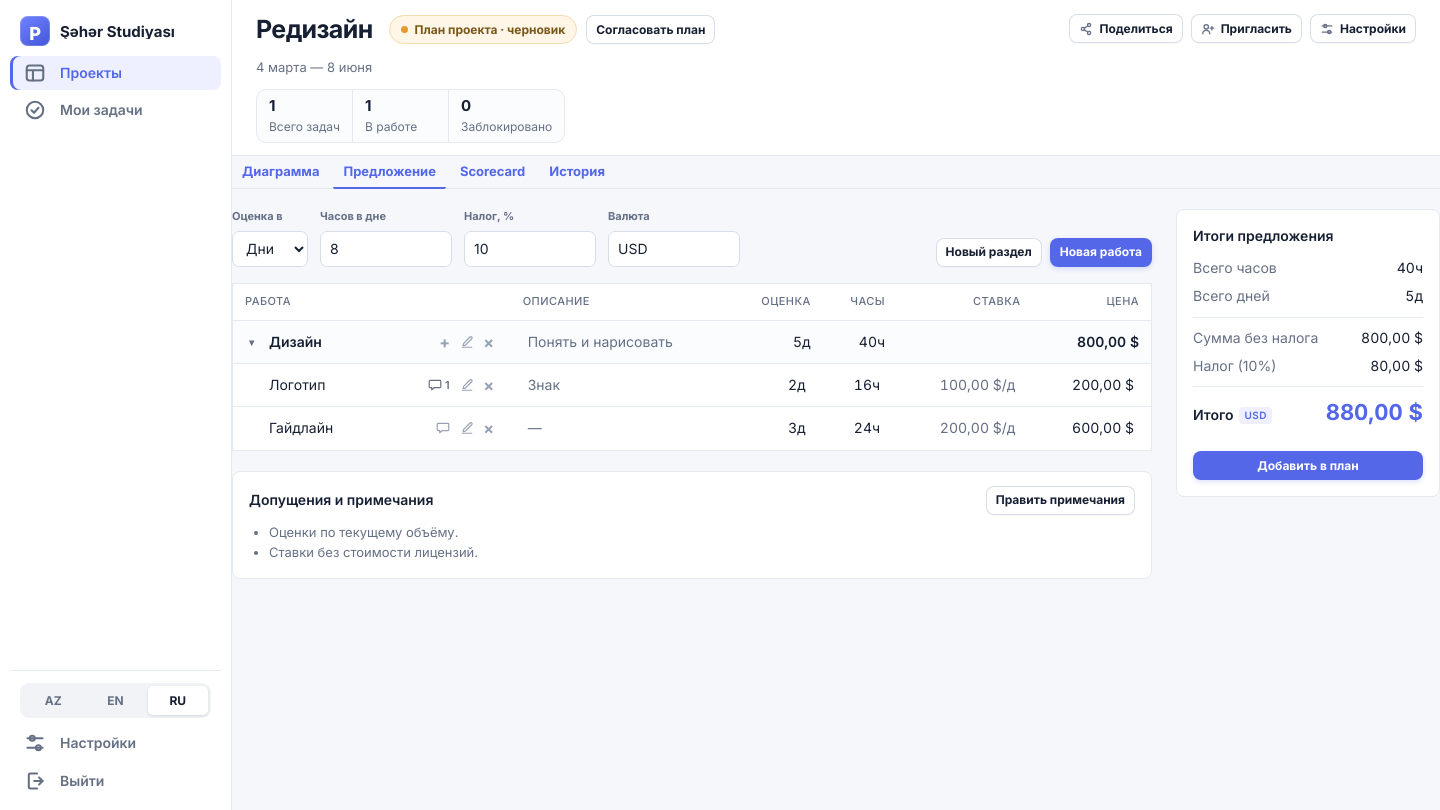
Test case: вкладка предложения › шеврон сворачивает раздел: работы прячутся, сводка остаётся
This screenshot has width=1440, height=810.
Expected: the text "Логотип" is shown, [269,376,325,393]
Click the button named "Свернуть раздел «Дизайн»": (252, 342) [245,337,258,347]
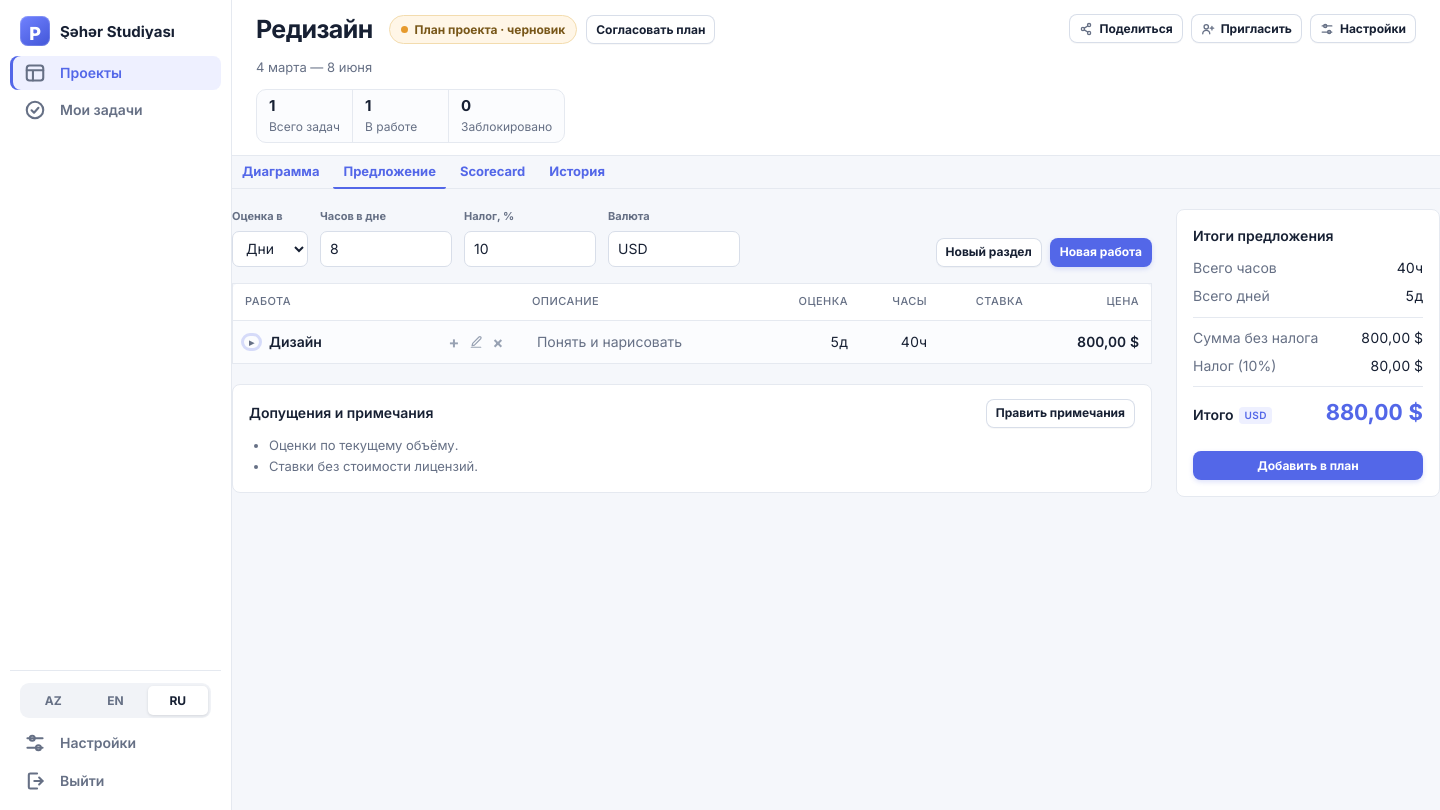
Expected: the text "Дизайн" is shown, [269,333,322,350]
Now the text "Логотип" is gone
